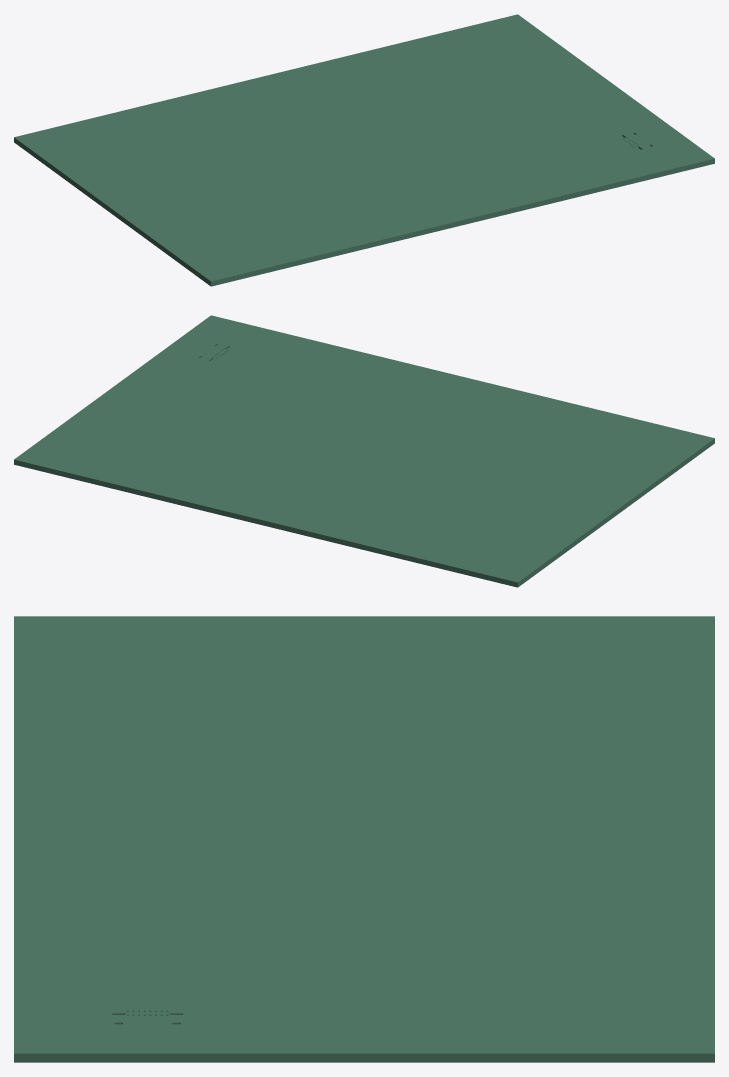
The model's file is neocart_3d.glb.
3 renders of one model, top to bottom at view 1: azimuth 30°, elevation 25°; view 2: azimuth 150°, elevation 25°; view 3: azimuth 270°, elevation 25°, orthographic. The views are drawn at different scales.
Visible parts, largest first — view 1: =>[0:1:1:2]; view 2: =>[0:1:1:2]; view 3: =>[0:1:1:2].
Boxes of the visible parts, bbox=[...] form: =>[0:1:1:2]: bbox=[14, 14, 714, 286]; =>[0:1:1:2]: bbox=[14, 315, 714, 587]; =>[0:1:1:2]: bbox=[14, 616, 714, 1062].
Bounding box in the file's own units: 0.155 × 0.00151 × 0.105.
